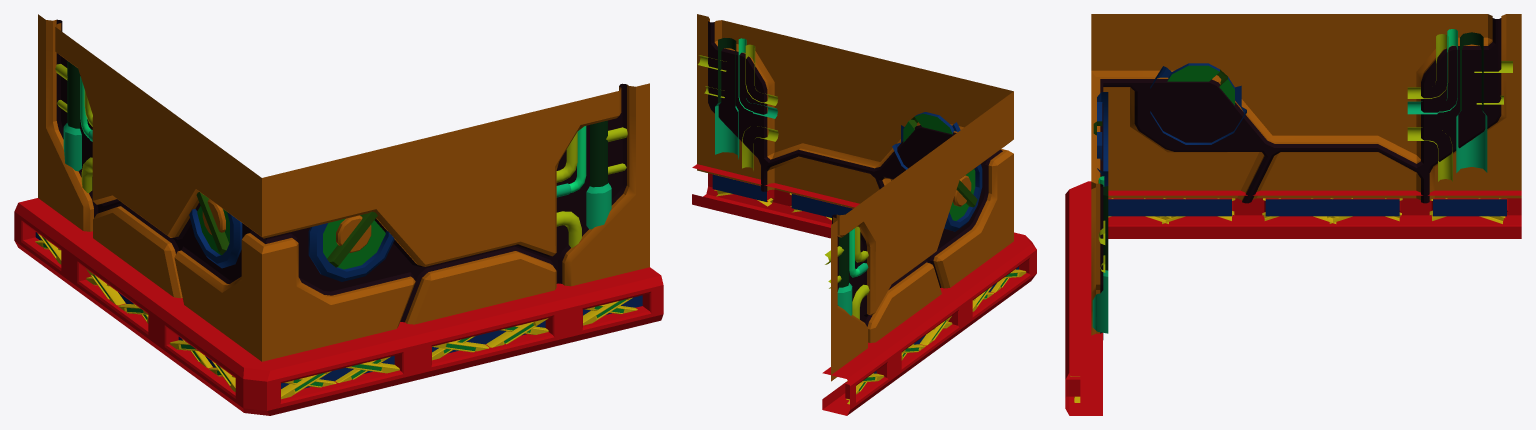
Rendered from OBJ_Mur_Coin.fbx.
3 views of the same model, side by side, from view 1: azimuth 30°, elevation 25°; view 2: azimuth 150°, elevation 25°; view 3: azimuth 270°, elevation 25° (orthographic). The views are drawn at different scales.
Visible parts, largest first — view 1: OBJ_Mur_coin; view 2: OBJ_Mur_coin; view 3: OBJ_Mur_coin.
Boxes of the visible parts, <box> form: OBJ_Mur_coin: <box>14,14,663,415</box>; OBJ_Mur_coin: <box>692,14,1036,415</box>; OBJ_Mur_coin: <box>1065,14,1521,415</box>.
Size of the model in its own units: 38.17 by 20.3 by 38.17.
